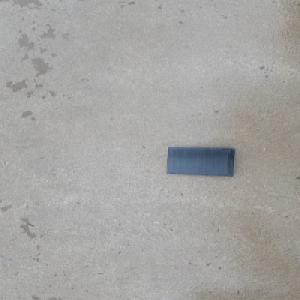PlasticPart: (165, 145, 238, 176)
